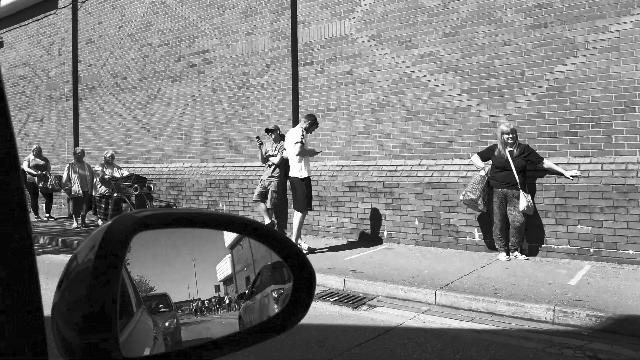berdiri: (472, 122, 580, 260), (272, 103, 331, 264)
